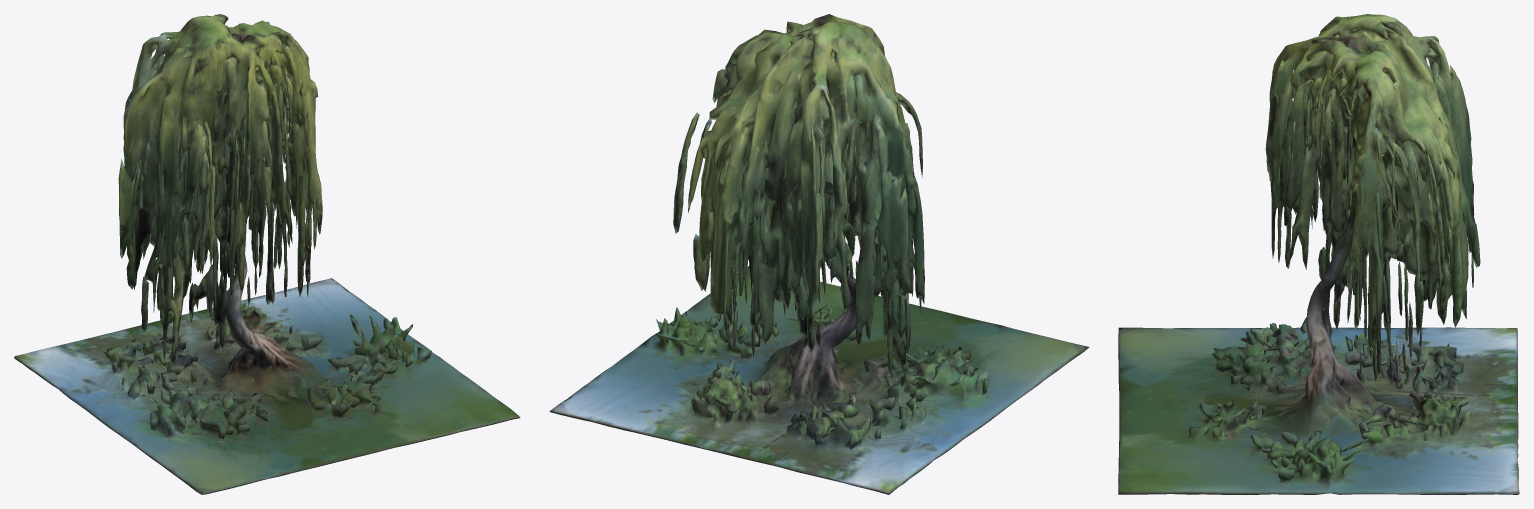
The model's file is AI_WeepingWillow.fbx.
3 views of the same model, side by side, from view 1: azimuth 30°, elevation 25°; view 2: azimuth 150°, elevation 25°; view 3: azimuth 270°, elevation 25° (orthographic). The views are drawn at different scales.
Visible parts, largest first — view 1: Mesh1.0; view 2: Mesh1.0; view 3: Mesh1.0.
Boxes of the visible parts, bbox=[...] form: Mesh1.0: bbox=[14, 14, 520, 494]; Mesh1.0: bbox=[549, 14, 1089, 494]; Mesh1.0: bbox=[1118, 14, 1519, 494].
Bounding box in the file's own units: 182 × 197 × 187.
1 material, 1 textured.
